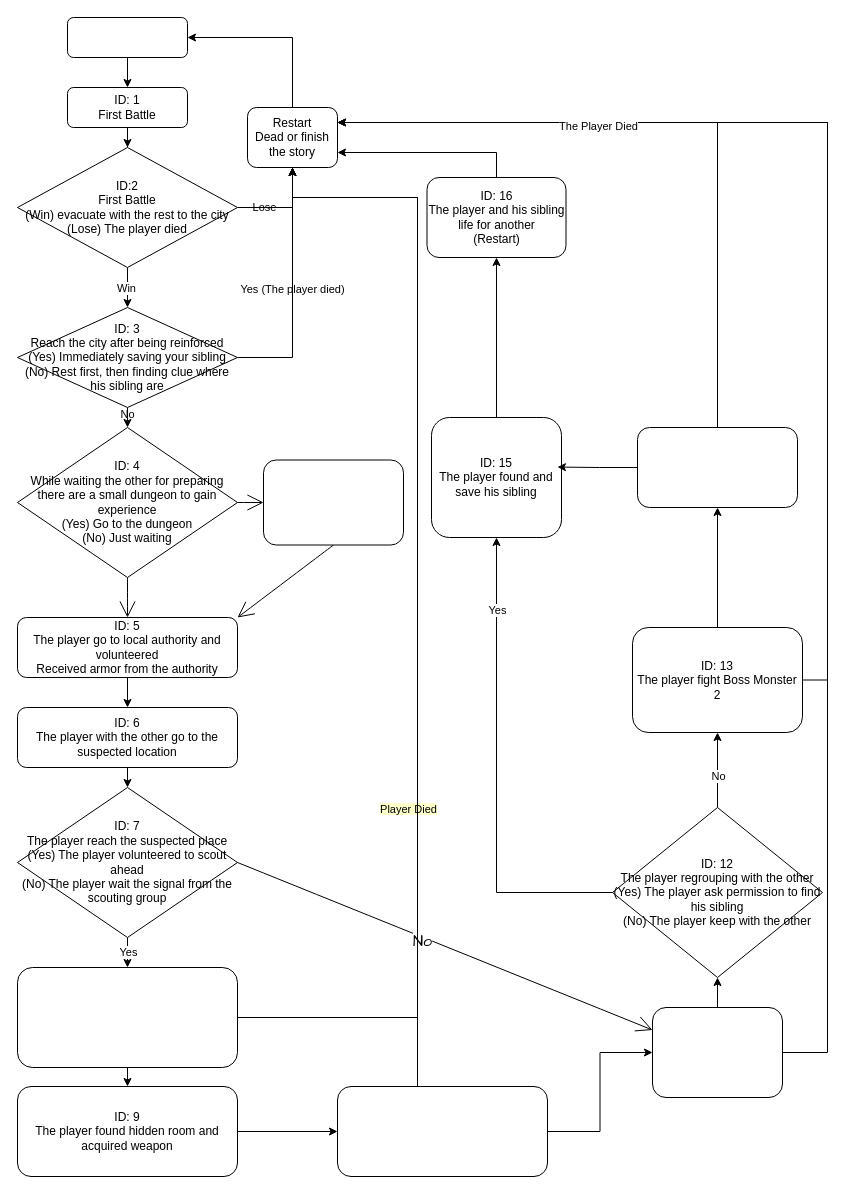
The diagram is 853 pixels wide and 1194 high, and some of its shapes have lost their labels. The centre of each missing label's shape, as x and y in pixels:
"ID: 10 The Player fight the monster guarding the gate" goes at point 442,1131.
"ID: 11 The player Fight Boss Monster 1" goes at point 717,1052.
"ID: 14 The player fight Last Boss Monster" goes at point 717,467.
"ID: 17 Player gaining experience from exploring dungeon" goes at point 333,502.
"ID: 8 The player sneak around the enemies Fought Mob Boss" goes at point 127,1017.
"Story Start" goes at point 127,37.
